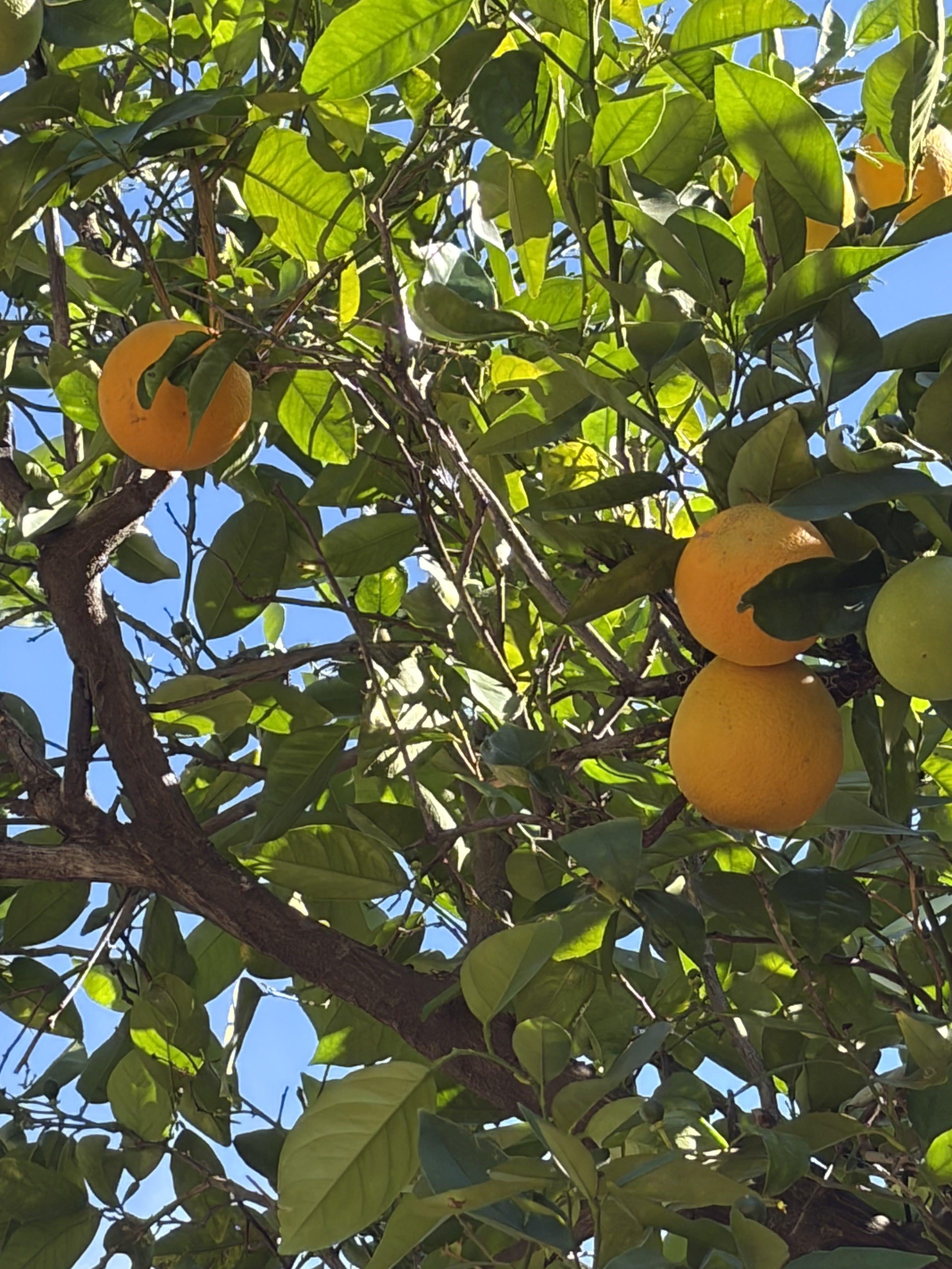orange: (671, 656, 844, 830), (674, 502, 839, 666), (98, 321, 251, 472), (732, 151, 856, 251), (866, 557, 952, 700), (854, 116, 952, 226), (0, 0, 43, 78)
